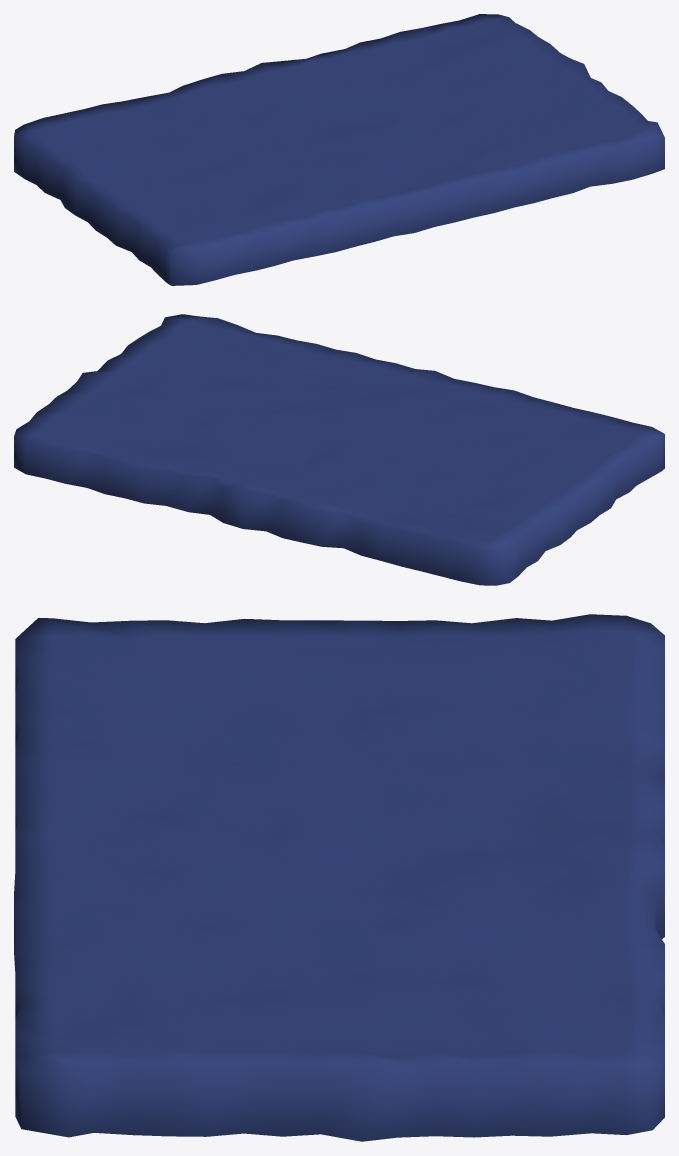
File: TD_Model_Water_SmoothShaded.fbx
3 views of the same model, one above another, from view 1: azimuth 30°, elevation 25°; view 2: azimuth 150°, elevation 25°; view 3: azimuth 270°, elevation 25° (orthographic). The views are drawn at different scales.
Parts seen in each view (by area): view 1: Map.002; view 2: Map.002; view 3: Map.002.
Boxes of the visible parts, x1=… form: Map.002: x1=14, y1=14, x2=664, y2=285; Map.002: x1=14, y1=314, x2=664, y2=585; Map.002: x1=14, y1=614, x2=664, y2=1141.
Size of the model in its own units: 397 by 30.21 by 239.
